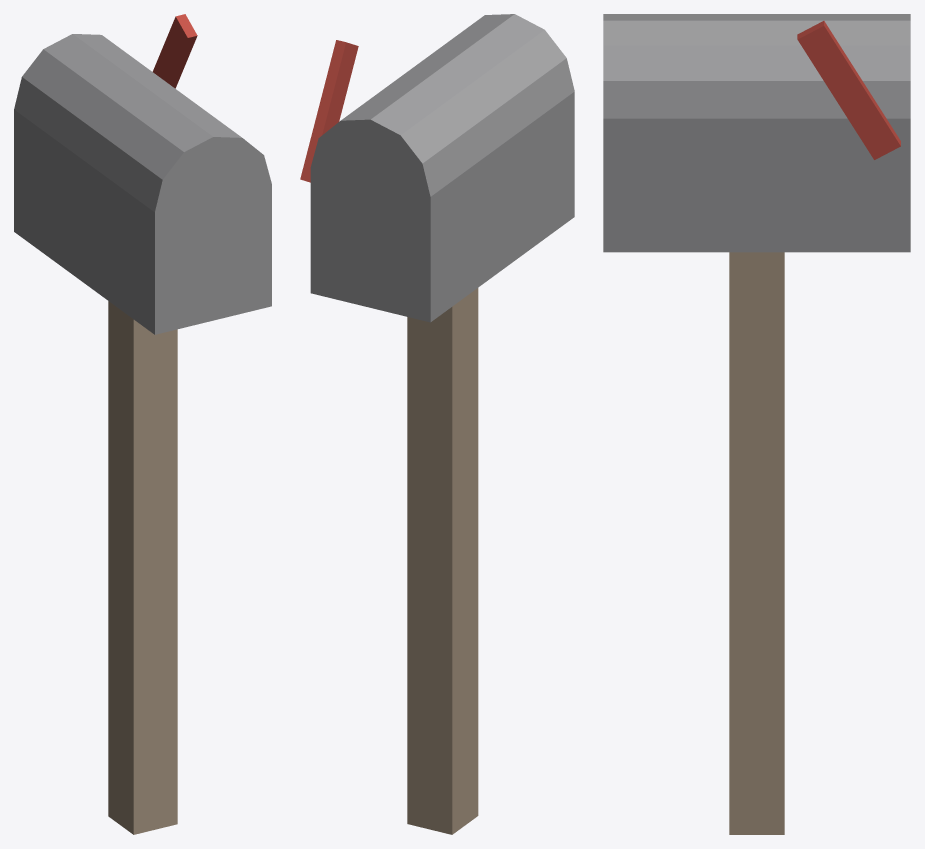
Rendered from mailbox.glb.
3 renders of one model, left to right at view 1: azimuth 30°, elevation 25°; view 2: azimuth 150°, elevation 25°; view 3: azimuth 270°, elevation 25°, orthographic. The views are drawn at different scales.
Visible parts, largest first — view 1: Mailbox; view 2: Mailbox; view 3: Mailbox.
Part boxes in pixels (<box>): Mailbox: <box>14,14,271,834</box>; Mailbox: <box>300,14,574,834</box>; Mailbox: <box>603,14,910,834</box>.
Bounding box in the file's own units: 0.27 × 1.5 × 0.5.
